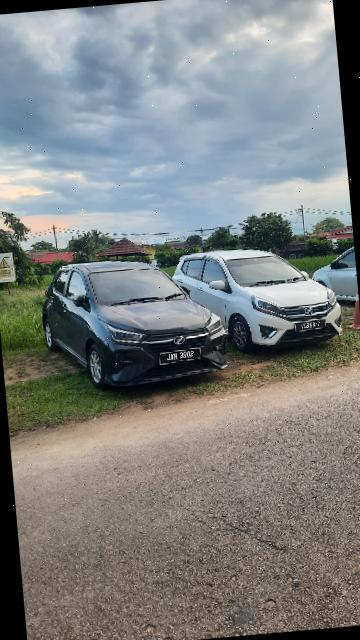License_Plate: (157, 347, 205, 367), (294, 319, 333, 335)
car: (38, 251, 233, 397), (173, 239, 348, 361)
